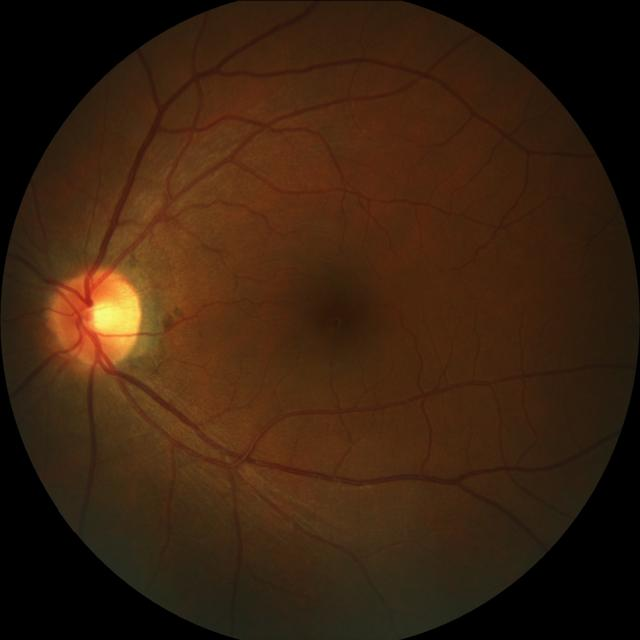OC: (83, 297, 122, 336)
OD: (52, 265, 144, 366)
